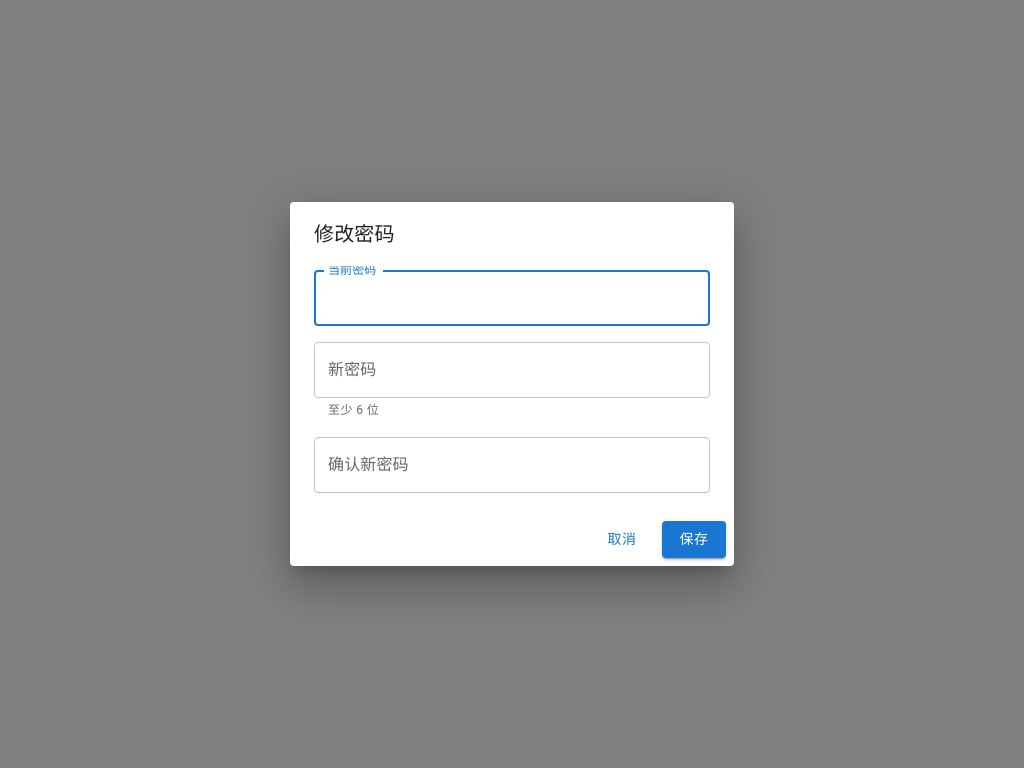
ChangePasswordDialog › 两次新密码不一致时不发请求
This screenshot has width=1024, height=768.
Type "old1234" into the password field labelled "当前密码" at {"x": 512, "y": 298}, box x1=314 y1=270 x2=710 y2=326
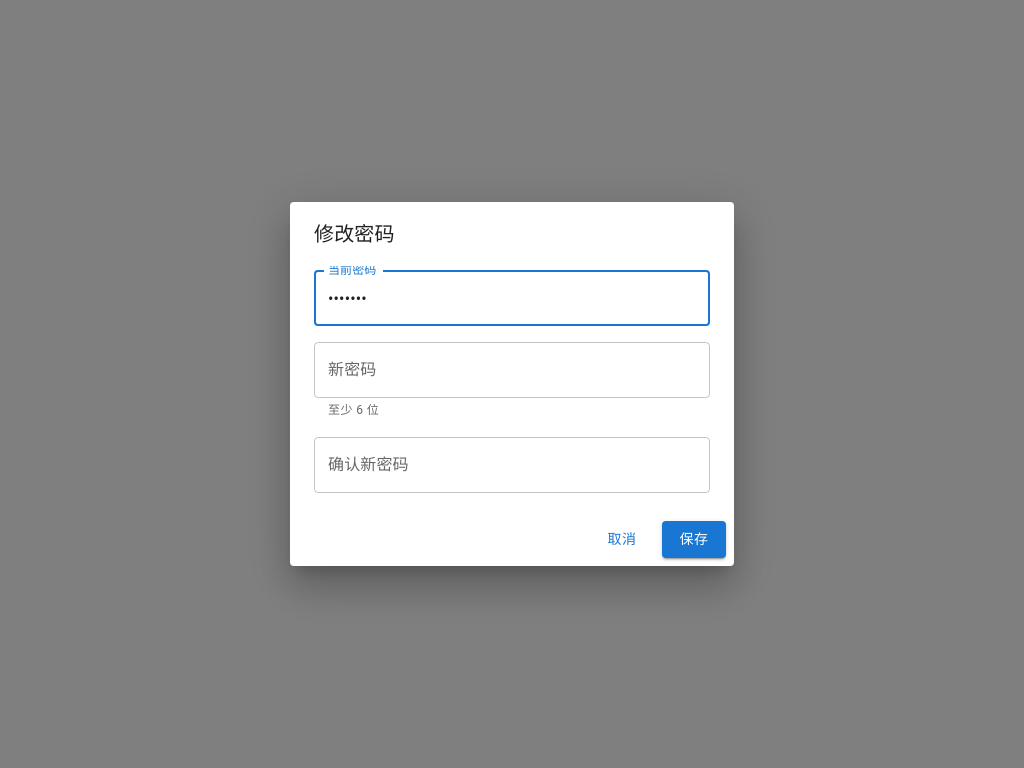
Type "new5678" into the password field labelled "新密码" at {"x": 512, "y": 370}, box x1=314 y1=342 x2=710 y2=398
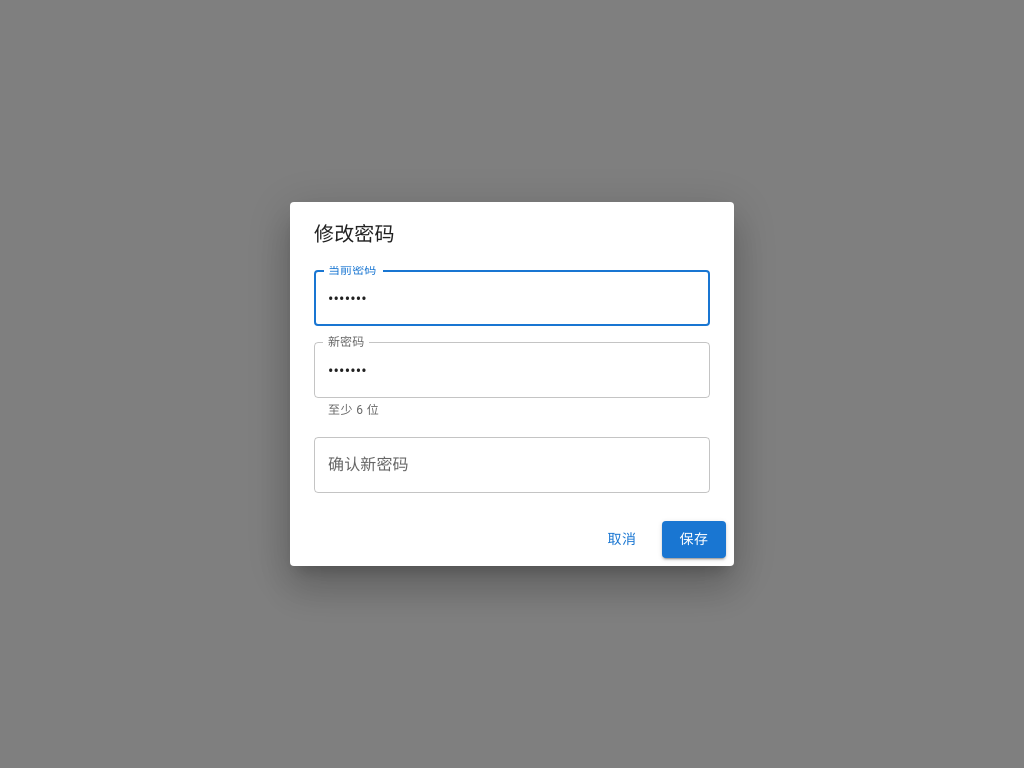
Type "new5679" into the password field labelled "确认新密码" at {"x": 512, "y": 465}, box x1=314 y1=437 x2=710 y2=493
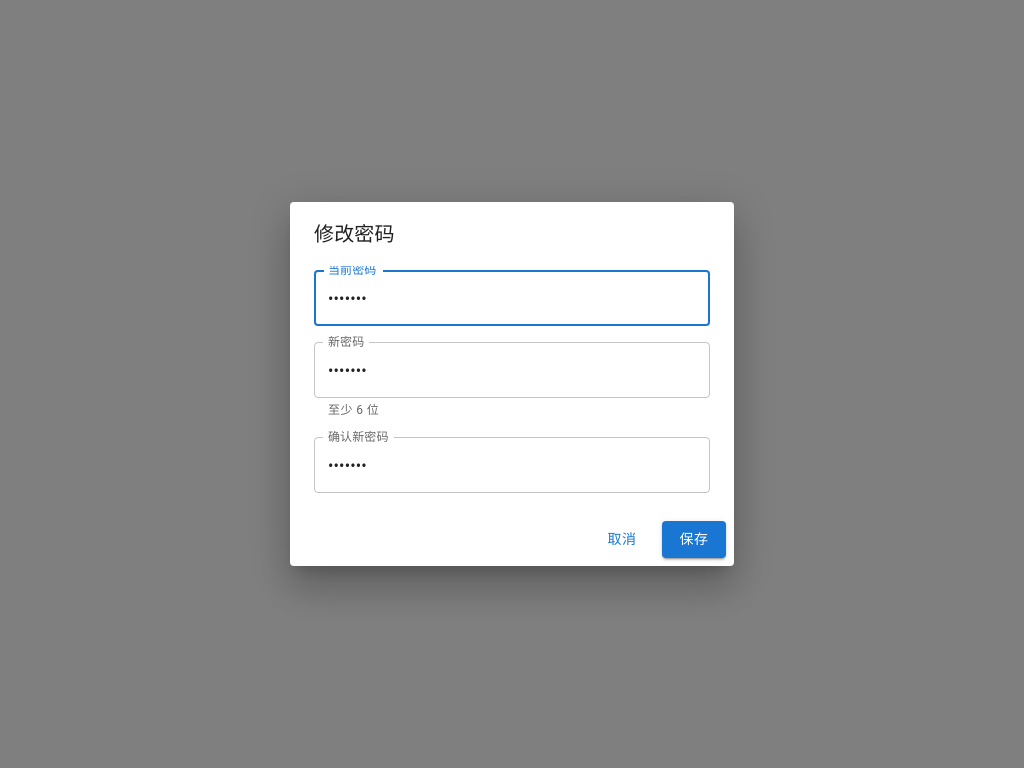
Click the button "保存" at {"x": 694, "y": 539}, box x1=662 y1=521 x2=726 y2=558
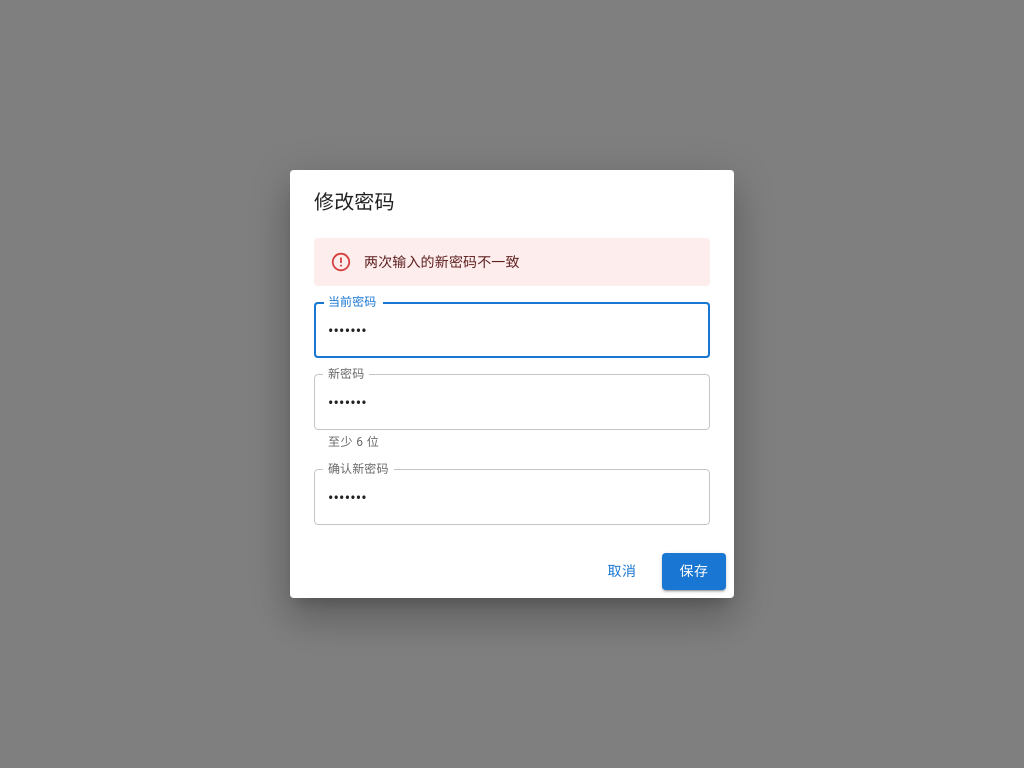
Check: the text "两次输入的新密码不一致" is shown, box x1=364 y1=254 x2=520 y2=270
